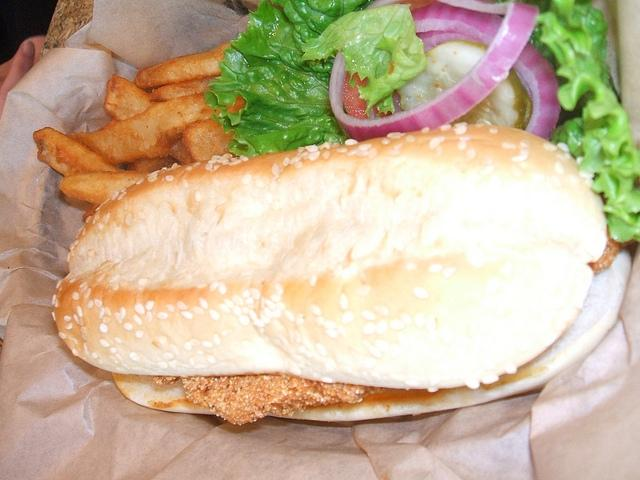lettuce: (526, 0, 640, 244), (204, 0, 376, 157), (302, 3, 428, 119)
onion: (329, 0, 539, 142), (412, 1, 562, 140), (392, 30, 534, 114)
